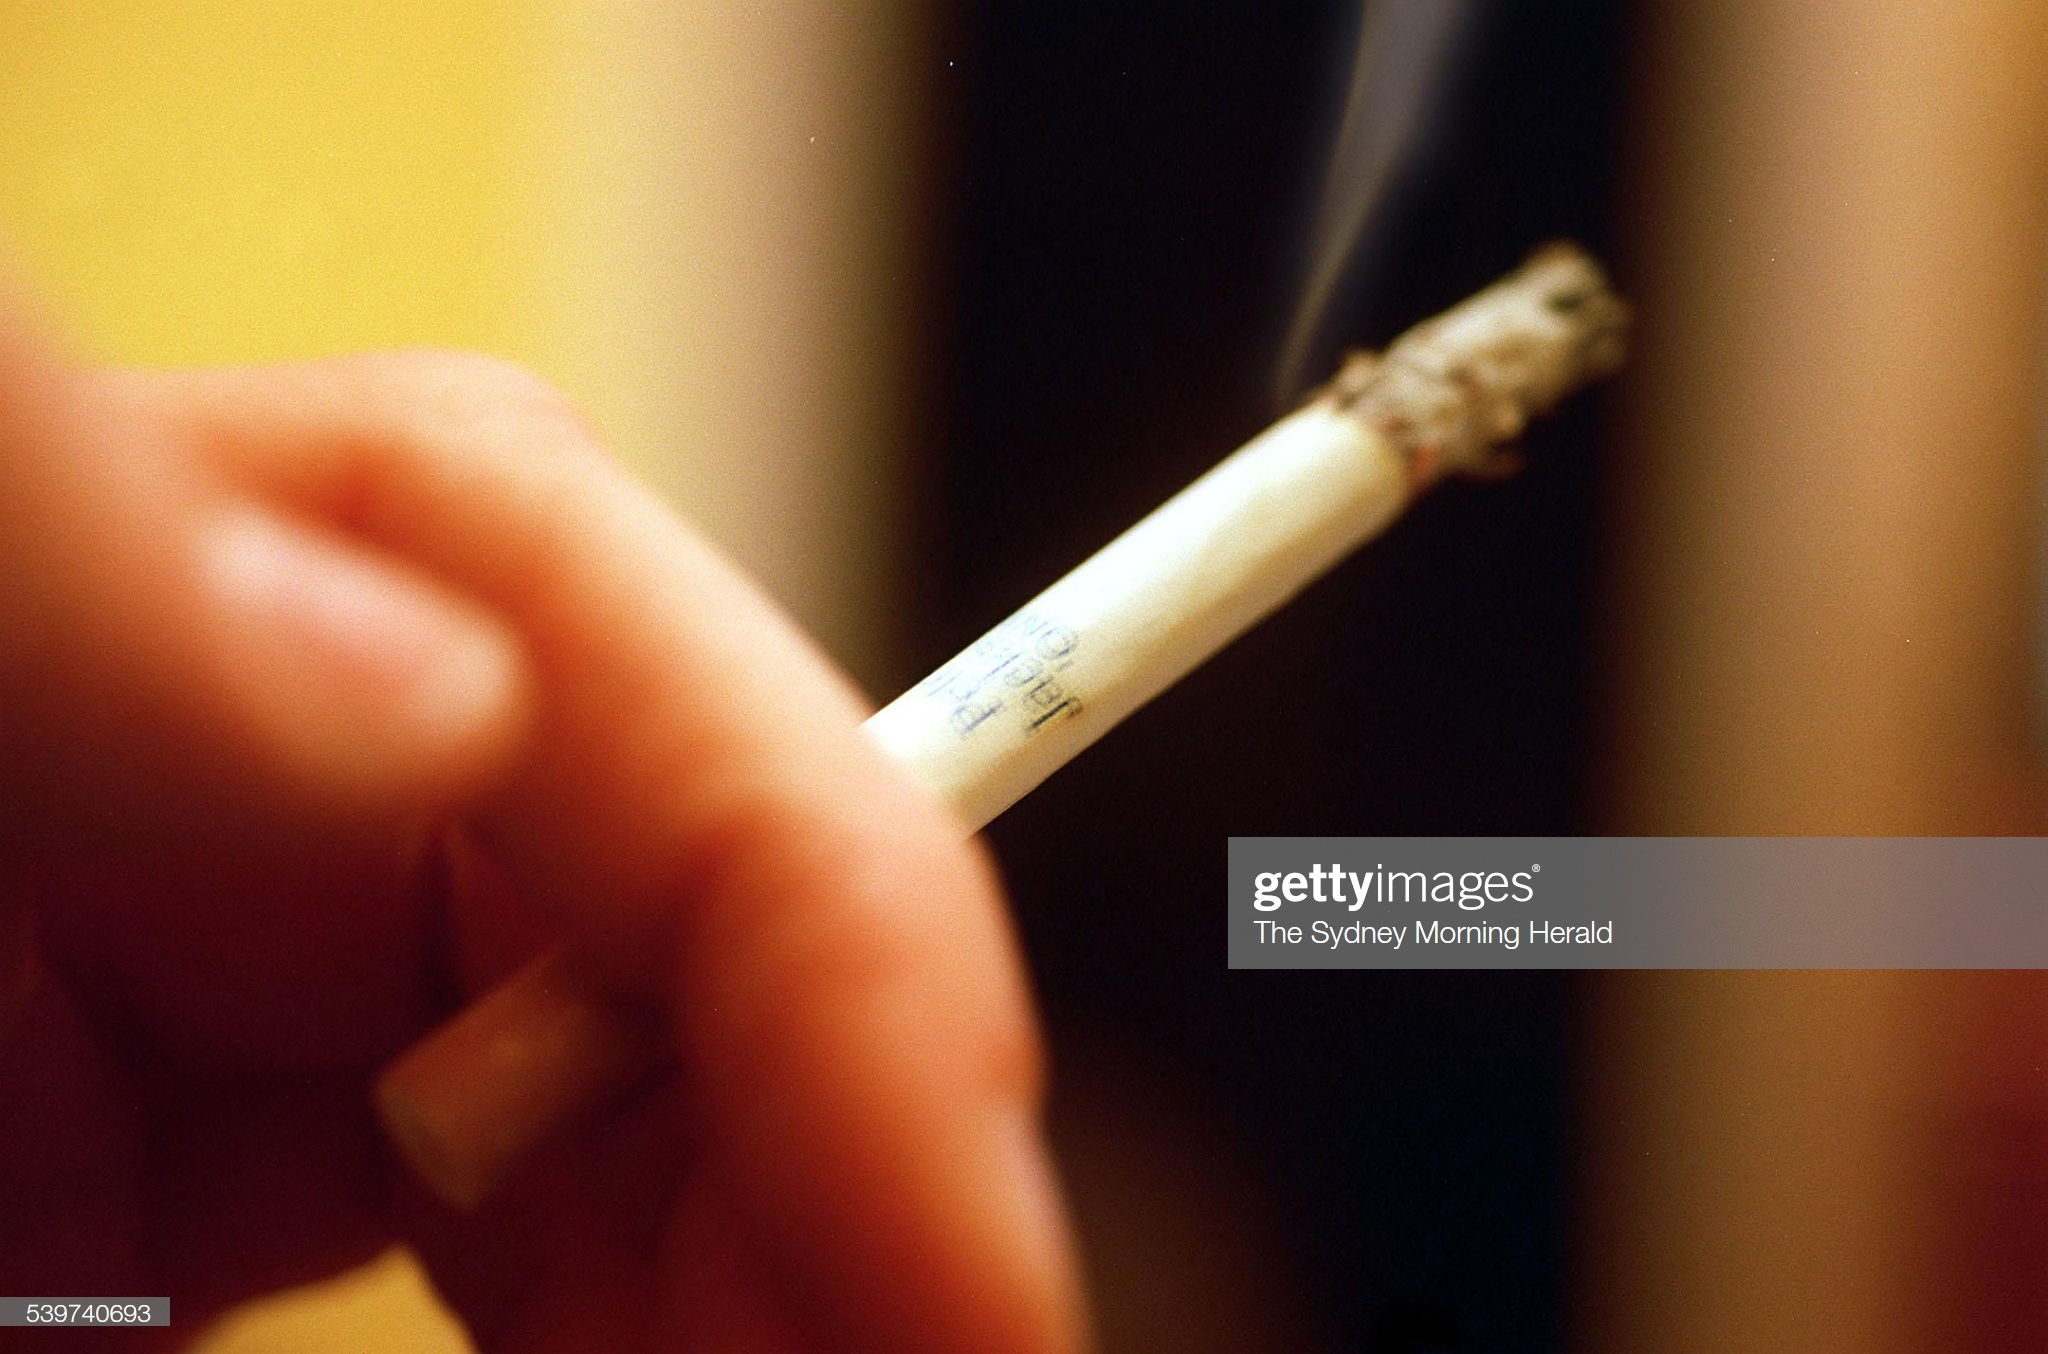sigaretta: (353, 264, 1598, 1170)
